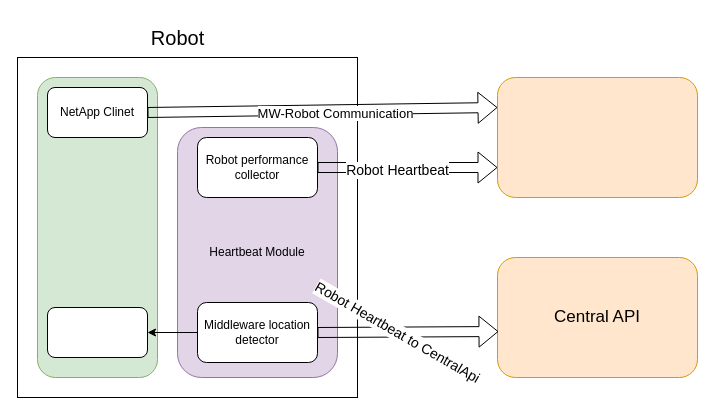
The diagram is 715 pixels wide and 415 high, and some of its shapes have lost their labels. The centre of each missing label's shape, as x and y in pixels:
Middleware: the point at 597,137
Middleware location selector: the point at 97,332
